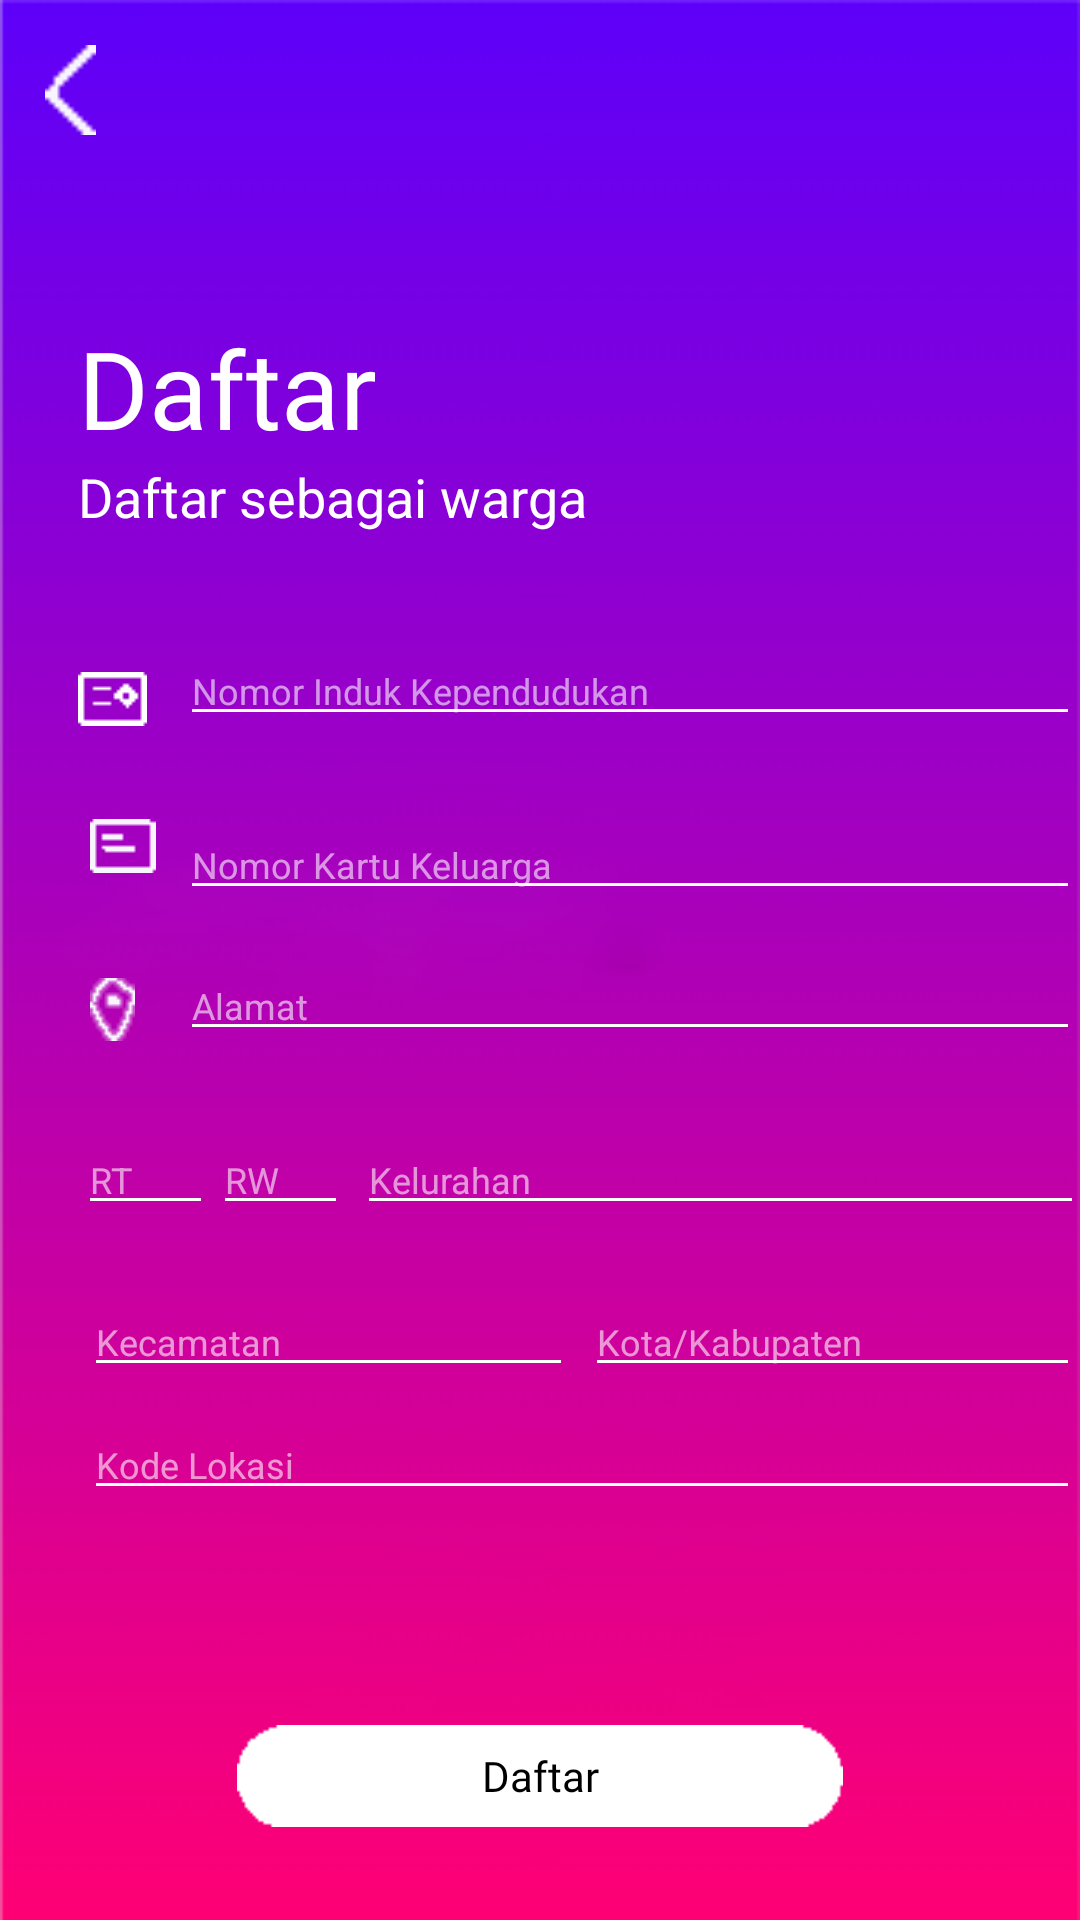

Named icons in this screenshot (1080w x 1920h) and their centers, (x=x, y=y):
backicon: (x=70, y=90)
cardicon: (x=123, y=846)
locationicon: (x=112, y=1009)
usernameicon: (x=112, y=699)
